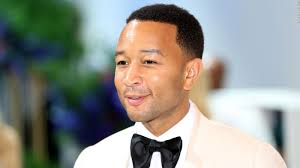black_male: (94, 24, 191, 124)
